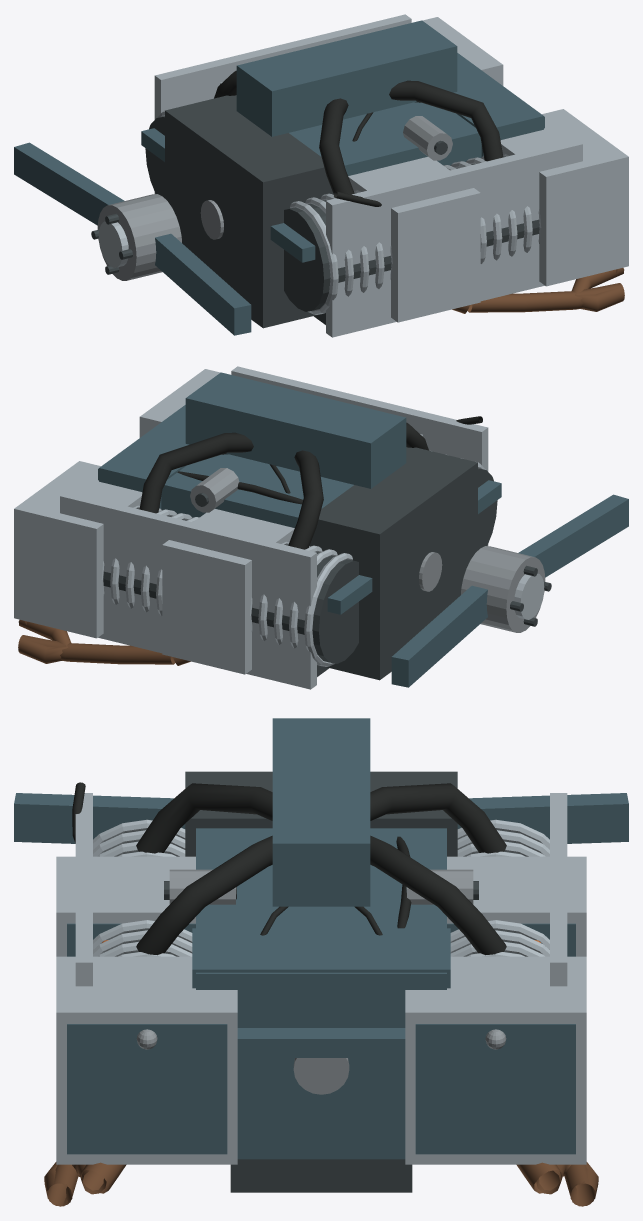
3 views of the same model, one above another, from view 1: azimuth 30°, elevation 25°; view 2: azimuth 150°, elevation 25°; view 3: azimuth 270°, elevation 25° (orthographic). The views are drawn at different scales.
Visible parts, largest first — view 1: Crankcase_Front, CoolingBaffle, IntakePlenum, HeadBody_02, HeadBody_01, Crankcase_Main, CoolingBaffle.001, PropellerBlade_02, CylinderBarrel_01, HubBody, PropellerBlade_01, Crankcase_Rear (+16 smaller); view 2: Crankcase_Front, CoolingBaffle.001, IntakePlenum, HeadBody_04, HeadBody_03, Crankcase_Main, CoolingBaffle, PropellerBlade_01, CylinderBarrel_03, HubBody, PropellerBlade_02, Crankcase_Rear (+17 smaller); view 3: Crankcase_Main, HeadCover_02, HeadCover_04, IntakePlenum, HeadBody_02, HeadBody_04, Crankcase_Rear, HeadBody_01, HeadBody_03, OilSump, Crankcase_Front, PropellerBlade_01 (+23 smaller).
Boxes of the visible parts, x1,y1,x2,y2 form: Crankcase_Front: (165, 95, 332, 328); CoolingBaffle: (326, 139, 582, 337); IntakePlenum: (236, 20, 457, 136); HeadBody_02: (500, 109, 628, 286); HeadBody_01: (348, 157, 480, 322); Crankcase_Main: (289, 102, 544, 193); CoolingBaffle.001: (154, 14, 411, 193); PropellerBlade_02: (155, 233, 251, 335); CylinderBarrel_01: (284, 192, 391, 311); HubBody: (97, 194, 181, 280); PropellerBlade_01: (14, 142, 124, 225); Crankcase_Rear: (454, 53, 543, 156); Crankcase_Front: (310, 447, 477, 680); CoolingBaffle.001: (60, 491, 316, 689); IntakePlenum: (185, 372, 406, 488); HeadBody_04: (14, 461, 142, 638); HeadBody_03: (162, 509, 294, 674); Crankcase_Main: (98, 454, 353, 545); CoolingBaffle: (231, 366, 488, 545); PropellerBlade_01: (391, 585, 487, 687); CylinderBarrel_03: (251, 544, 358, 663); HubBody: (461, 546, 545, 632); PropellerBlade_02: (518, 494, 628, 577); Crankcase_Rear: (99, 405, 188, 508); Crankcase_Main: (196, 828, 446, 1157); HeadCover_02: (67, 1024, 227, 1154); HeadCover_04: (415, 1024, 575, 1154); IntakePlenum: (272, 718, 370, 906); HeadBody_02: (56, 956, 237, 1164); HeadBody_04: (405, 956, 586, 1164); Crankcase_Rear: (192, 928, 450, 1159); HeadBody_01: (56, 856, 195, 956); HeadBody_03: (447, 856, 586, 956); OilSump: (230, 1159, 412, 1192); Crankcase_Front: (185, 771, 457, 856); PropellerBlade_01: (457, 793, 628, 843).
Size of what is drawn, in the model's own units: 4 by 2.06 by 3.53.
